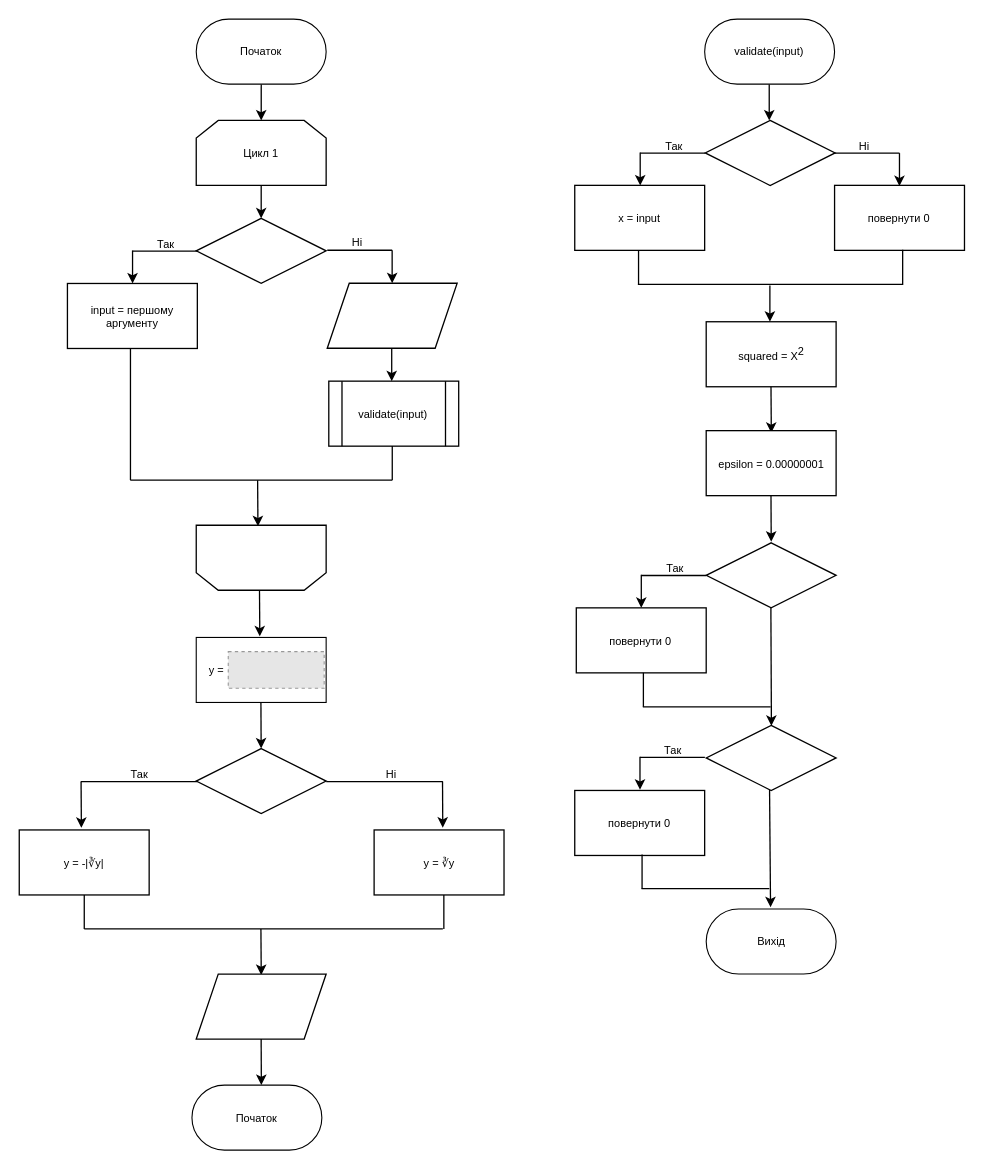
Image size: 985x1170. Some labels were removed from this diagram. Grey dashed boxes stand in for pictures. Each missing label, with the centre of its shape:
input дійсне число?: the point at 769,152
x <= minX або x > maxX: the point at 770,757
y < 0: the point at 260,780
|squared - 0.8| < epsilon: the point at 770,575
Аргументів > 0: the point at 260,250
Ввод input: the point at 391,315
Вивід y: the point at 260,1006
Кінець циклу 1 input = 0: the point at 260,557
